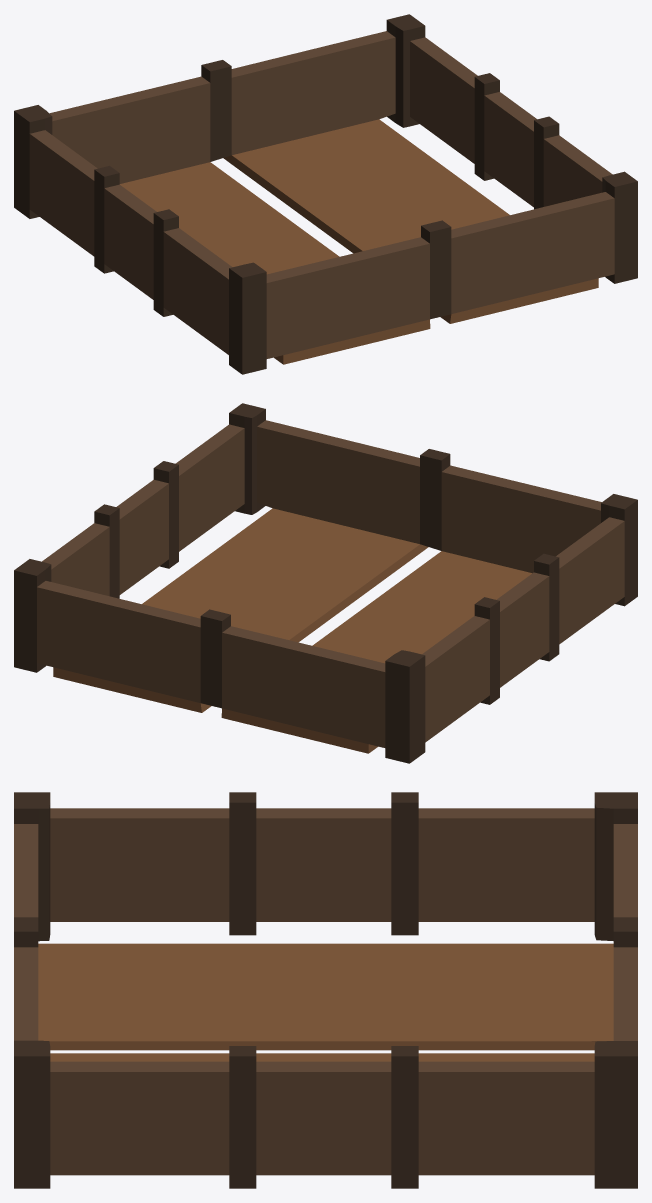
Rendered from ColonistPlainFarm.fbx.
The picture shows the model from 3 angles, top to bottom: view 1: azimuth 30°, elevation 25°; view 2: azimuth 150°, elevation 25°; view 3: azimuth 270°, elevation 25°; orthographic projection. The views are drawn at different scales.
Visible parts, largest first — view 1: PlainCornFarm; view 2: PlainCornFarm; view 3: PlainCornFarm.
Part boxes in pixels (x1,y1,x2,y2): PlainCornFarm: (14,14,637,374); PlainCornFarm: (14,403,637,763); PlainCornFarm: (14,792,637,1188).
Bounding box in the file's own units: 200 × 46.85 × 200.
